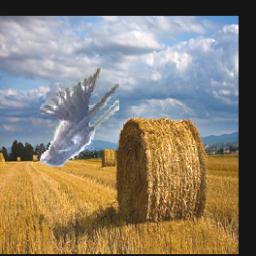Swallow: (38, 66, 120, 168)
